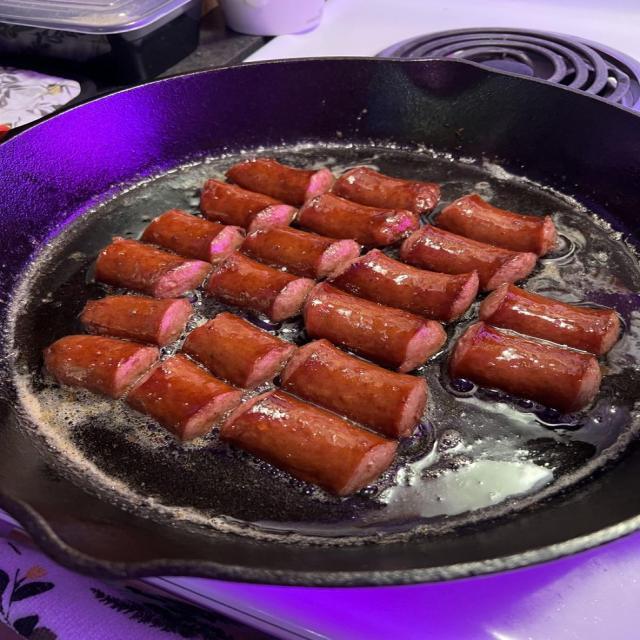sausage: (220, 391, 397, 495), (281, 340, 427, 438), (449, 322, 601, 412), (304, 283, 446, 372), (327, 250, 478, 322), (126, 355, 242, 441), (480, 285, 619, 354), (400, 226, 536, 290), (183, 312, 295, 388), (206, 254, 314, 322), (435, 195, 556, 255), (44, 335, 159, 398), (95, 237, 212, 298), (297, 193, 419, 246), (241, 228, 361, 279), (80, 295, 193, 346), (141, 210, 244, 264), (227, 158, 334, 206), (333, 167, 439, 215), (200, 179, 296, 230)
